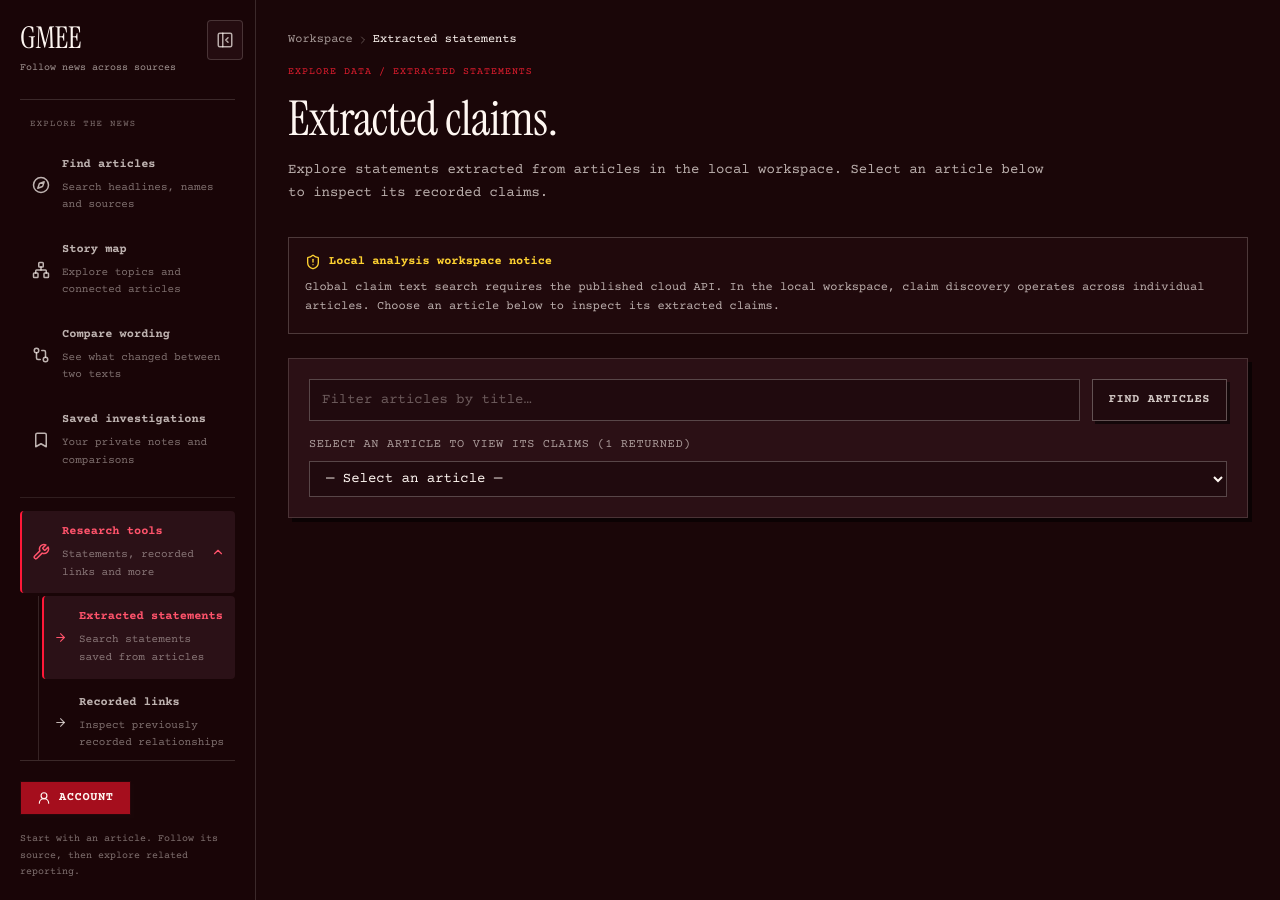
Test: Navigation and Data Experience (Package N5) › Claims Workspace (#/dashboard/claims) › renders claims search in local mode with bounded article selector
The width and height of the screenshot is (1280, 900).
Expected: the text "Local analysis workspace notice" is shown, [329,254,552,270]
Note: Select article
Select "Local Investigation Article (tribune.example)" in the dropdown labelled "Select an article to view its claims (1 returned)". click: (768, 478)
box: [309,460,1227,496]
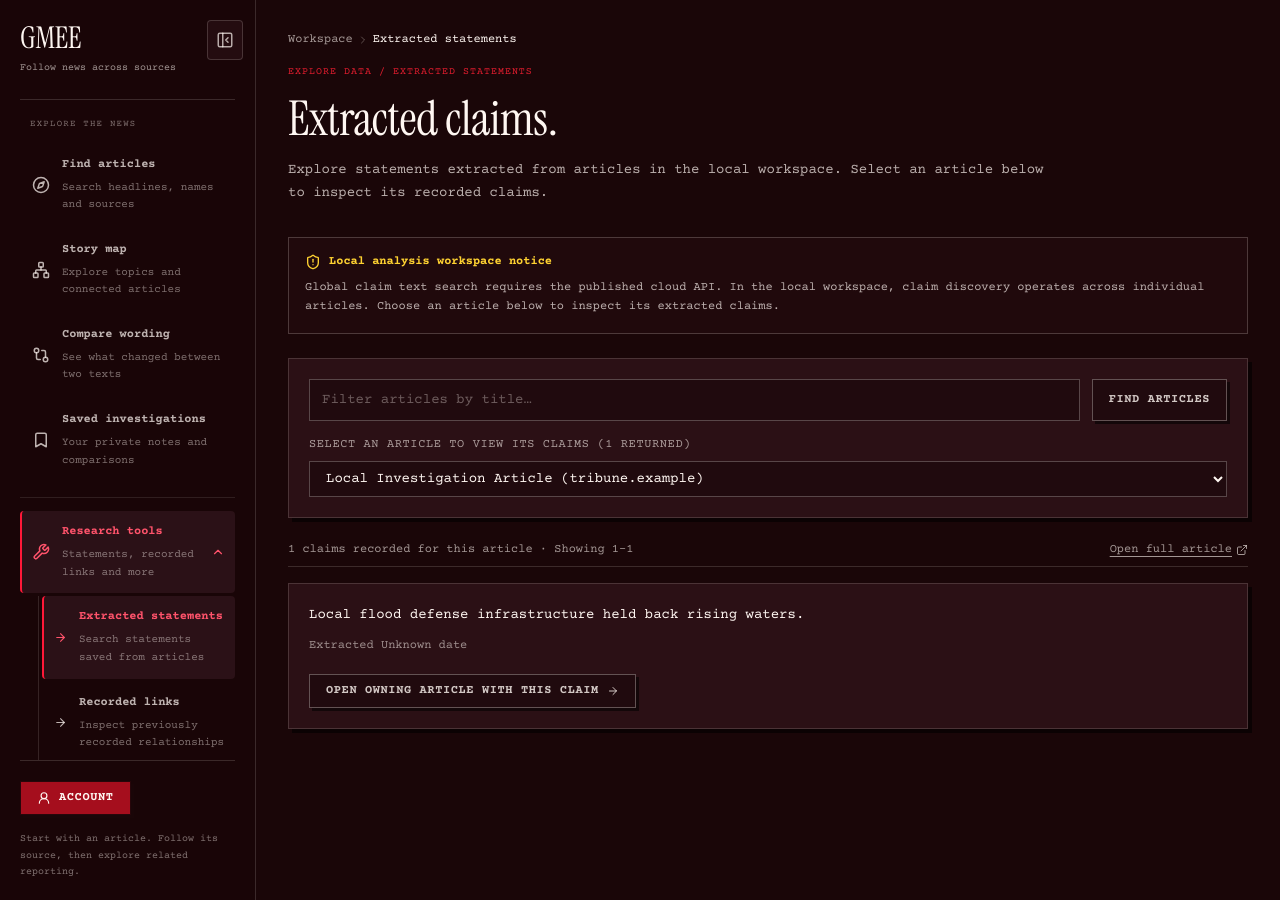
Result: the text "Local flood defense infrastructure held back rising waters." is shown at [309,606,804,622]
Result: the text "Open owning article with this claim" is shown at [326,683,599,699]
